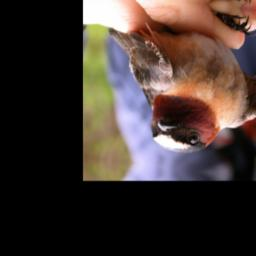Swallow: (97, 0, 256, 163)
